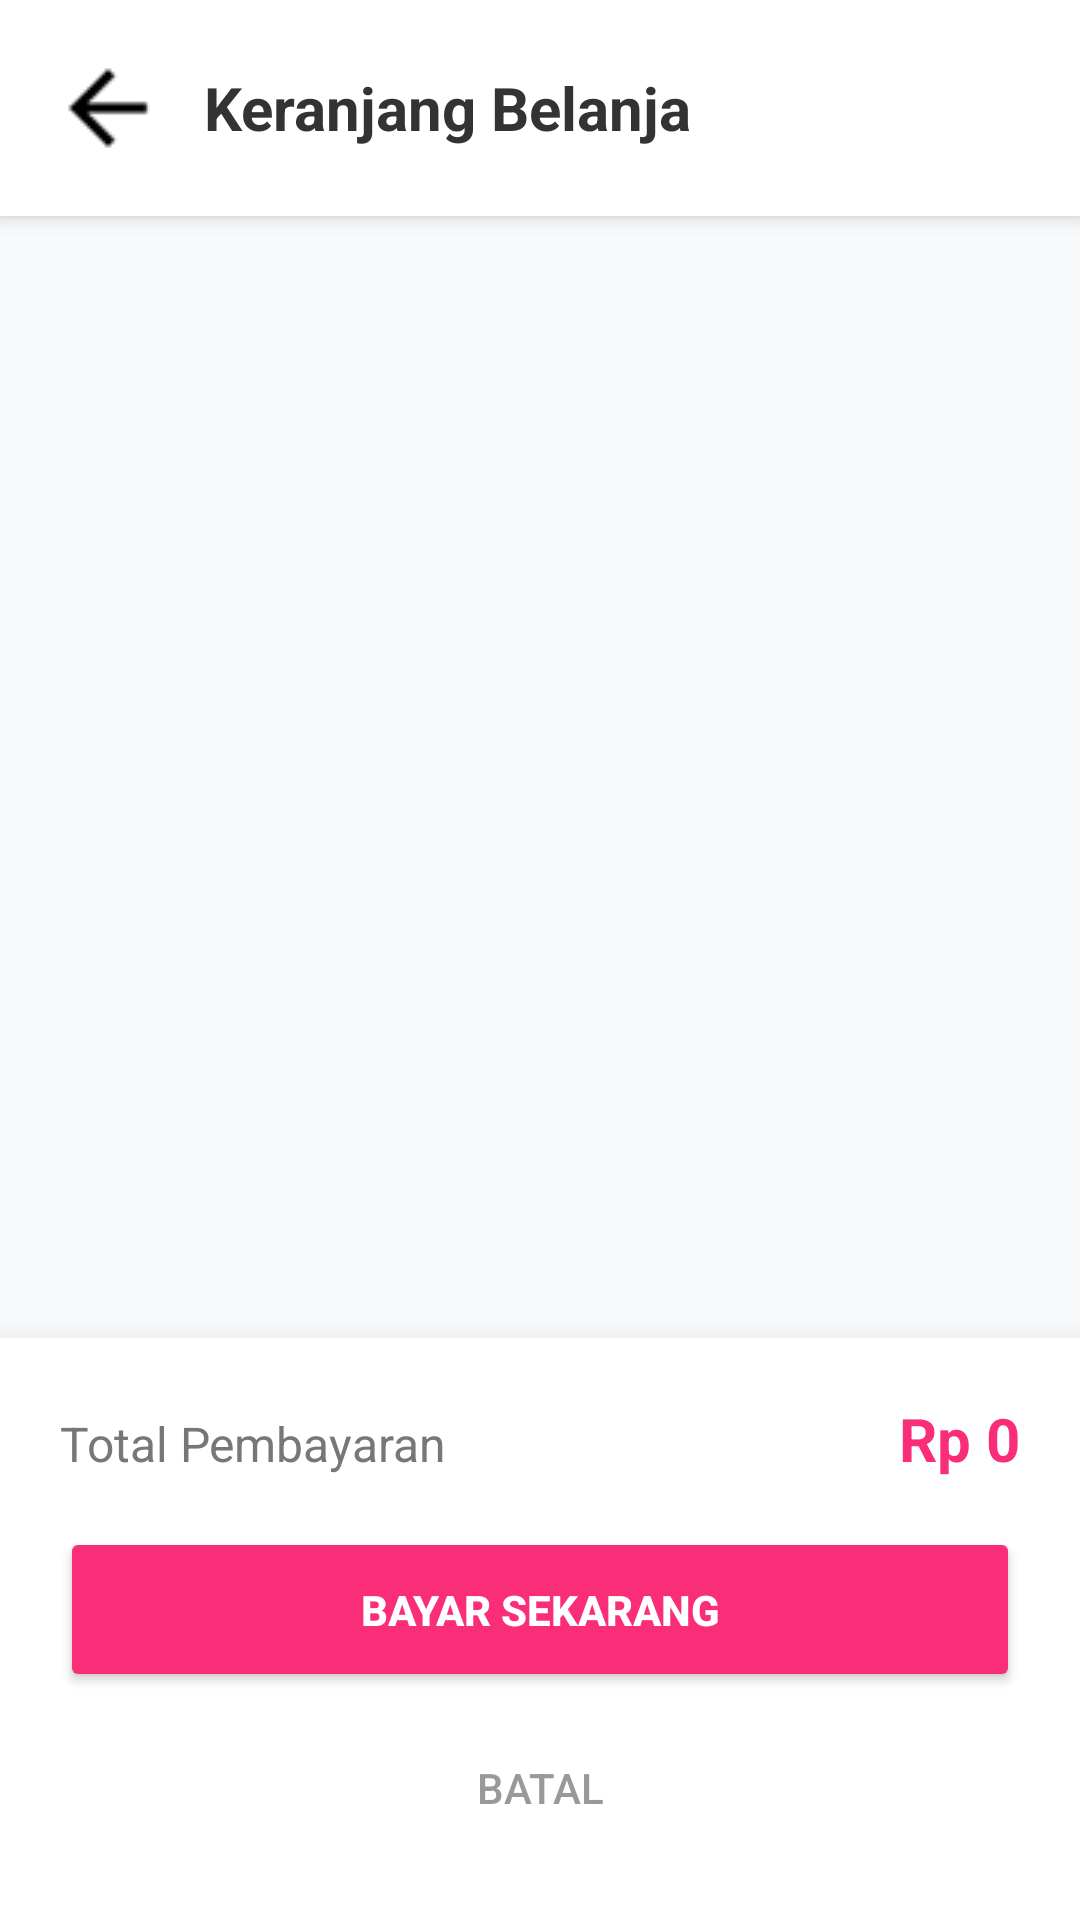

Icons on this 1080×1920 Android screen, each with the point to tap as point (x, y):
arrow back: point (108, 108)
